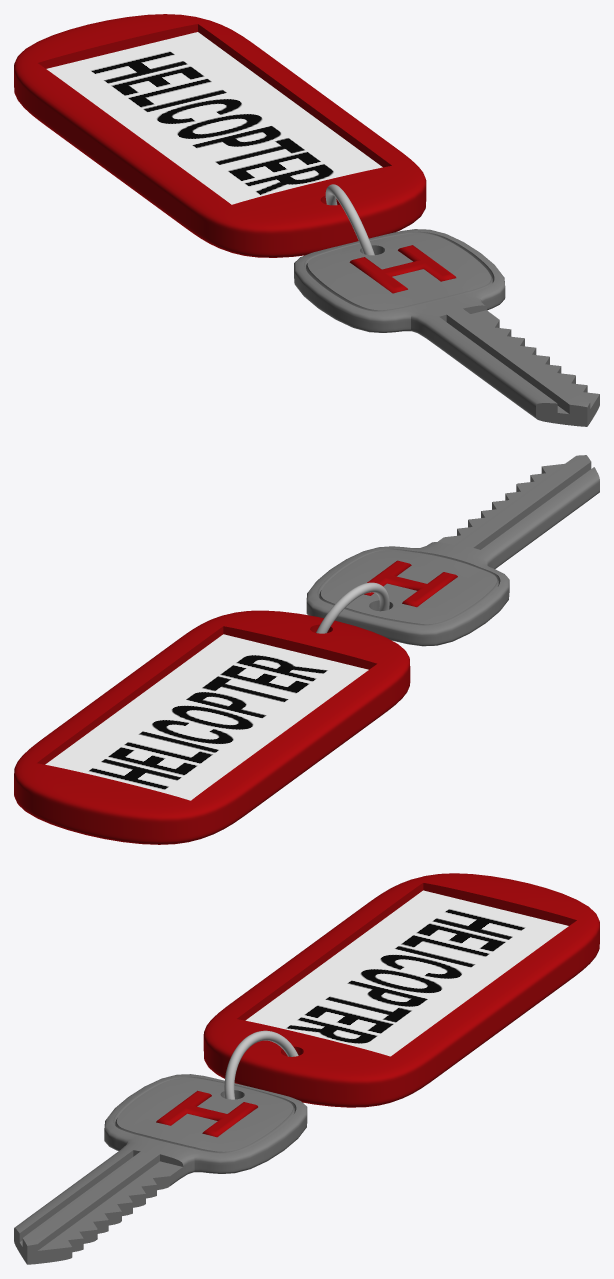
The model's file is 헬기열쇠.fbx.
3 views of the same model, one above another, from view 1: azimuth 30°, elevation 25°; view 2: azimuth 150°, elevation 25°; view 3: azimuth 330°, elevation 25° (orthographic). The views are drawn at different scales.
Parts seen in each view (by area): view 1: nametag, Plane, key, Text, ring; view 2: nametag, Plane, key, Text, ring; view 3: nametag, Plane, key, Text, ring.
Boxes of the visible parts, x1,y1,x2,y2 form: nametag: (14,14,426,257); Plane: (46,32,382,204); key: (294,229,599,426); Text: (349,245,456,293); ring: (325,184,374,255); nametag: (14,610,410,844); Plane: (45,634,368,800); key: (306,455,599,646); Text: (364,560,457,607); ring: (316,582,389,633); nametag: (203,873,599,1107); Plane: (245,890,568,1056); key: (14,1074,307,1264); Text: (156,1090,257,1137); ring: (224,1030,303,1102).
Bounding box in the file's own units: 91.95 × 42.16 × 379.
